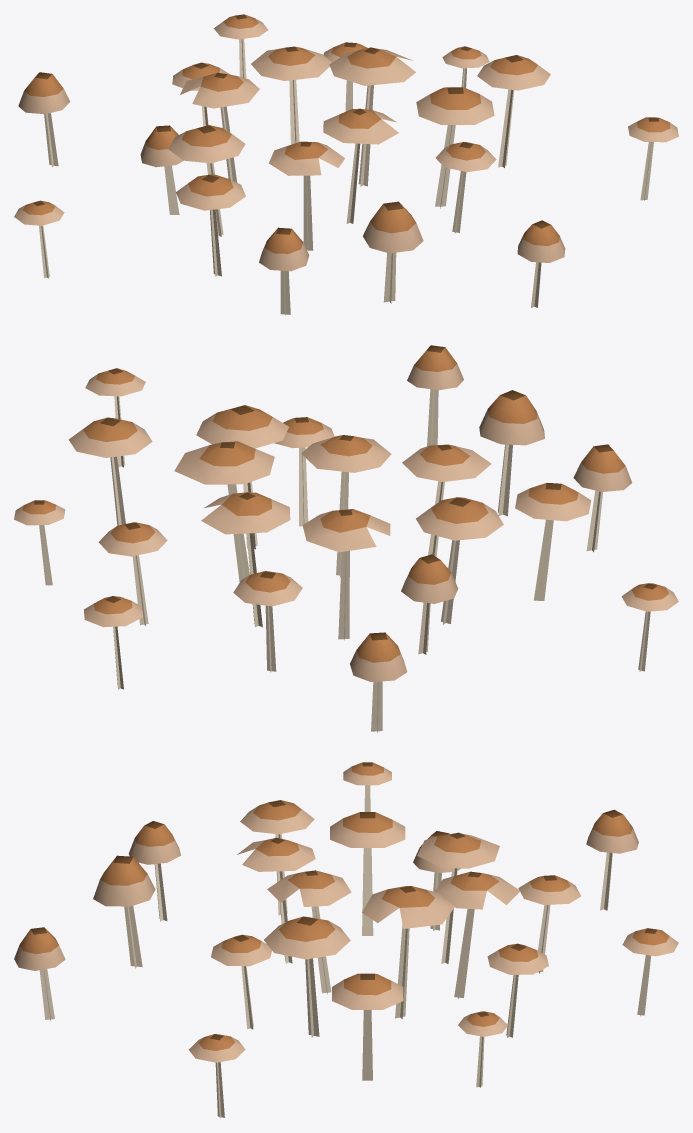
Rendered from Brown_Mushrooms_Cluster_3.glb.
The picture shows the model from 3 angles, top to bottom: view 1: azimuth 30°, elevation 25°; view 2: azimuth 150°, elevation 25°; view 3: azimuth 270°, elevation 25°; orthographic projection. The views are drawn at different scales.
Parts seen in each view (by area): view 1: Brown_Mushrooms_Cluster_3; view 2: Brown_Mushrooms_Cluster_3; view 3: Brown_Mushrooms_Cluster_3.
Boxes of the visible parts, left/top/right/bottom form: Brown_Mushrooms_Cluster_3: left=14, top=14, right=678, bottom=315; Brown_Mushrooms_Cluster_3: left=14, top=345, right=678, bottom=732; Brown_Mushrooms_Cluster_3: left=14, top=762, right=678, bottom=1118.
Bounding box in the file's own units: 0.7159 × 0.1501 × 0.6723.
Materials: 1 (1 with a texture image).
